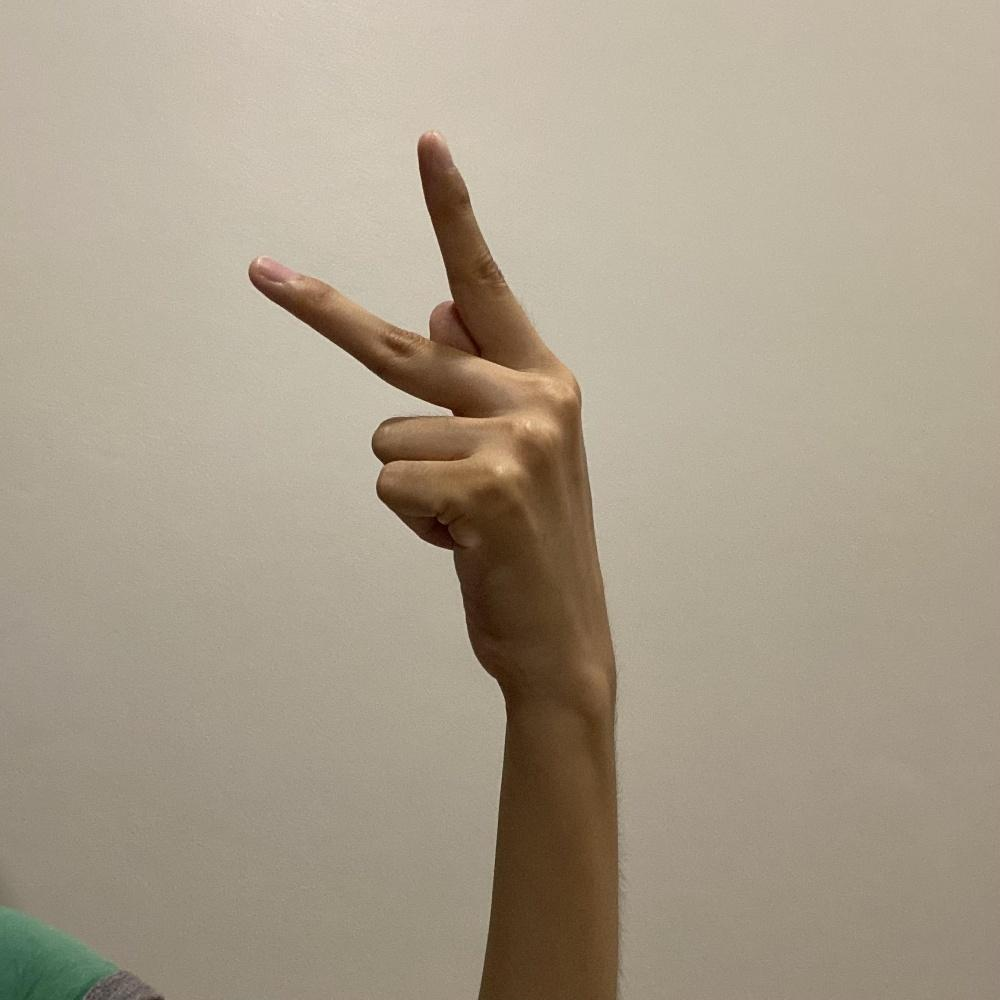k: (245, 124, 621, 713)
